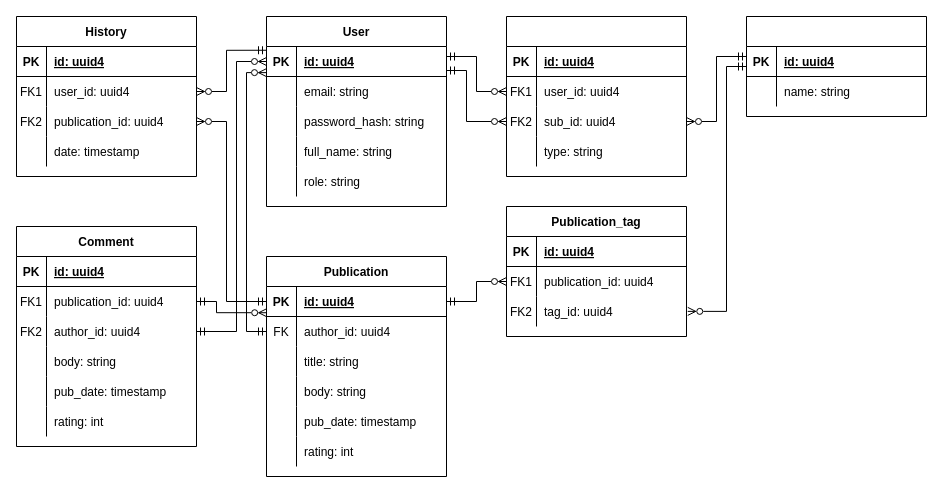
Some shapes in this 943 by 493 pixel diagram are drawn without their labels. Each missing label, with the box of its shape:
Subscription: (506, 16, 686, 176)
Tag: (746, 16, 926, 116)
